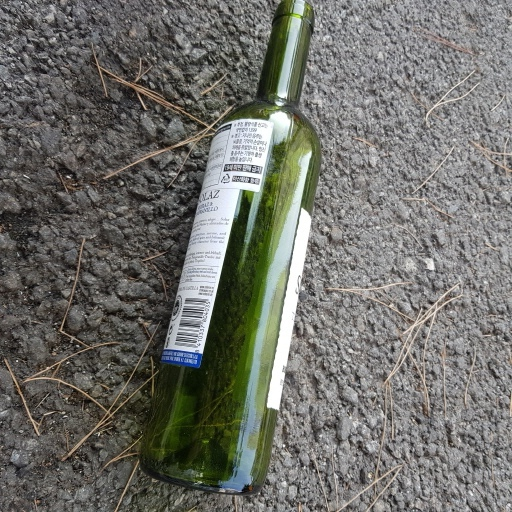Glass_2: (147, 1, 322, 492)
